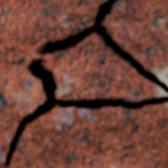brick: (0, 0, 165, 167), (11, 104, 167, 167), (104, 0, 167, 82)
crack: (1, 0, 167, 167)
